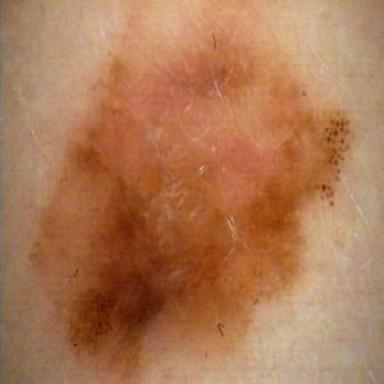Melanoma: (36, 1, 349, 384)
